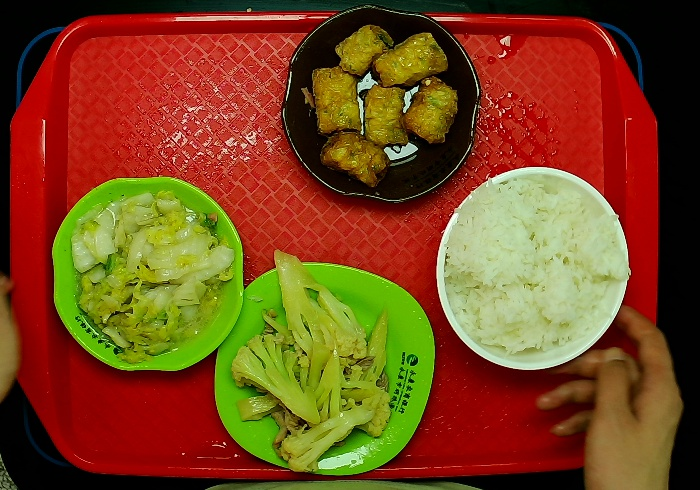YKMZ-Fan_Wan: (430, 163, 634, 377)
YKMZ-Ka_Fei_Ao_Bian_Wan: (277, 1, 486, 209)
YKMZ-Lv_Se_Ao_Bian_Wan: (47, 172, 250, 382)
YKMZ-Lv_Se_Fang_Die: (212, 259, 439, 479)
